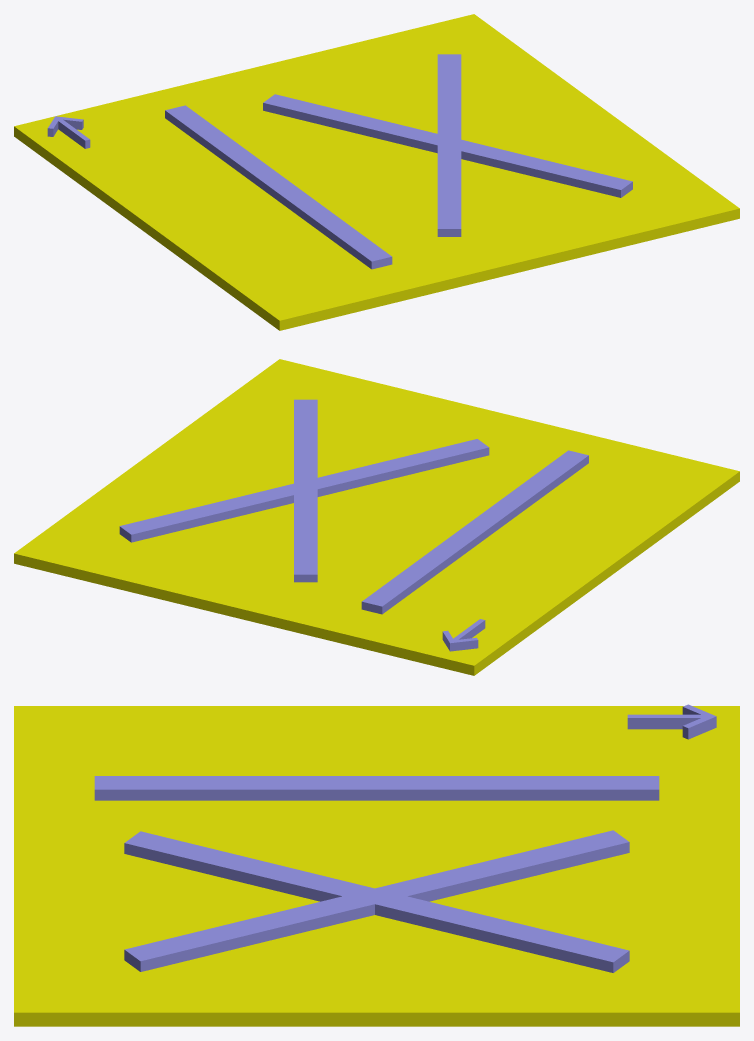
File: mark_9.fbx
3 views of the same model, one above another, from view 1: azimuth 30°, elevation 25°; view 2: azimuth 150°, elevation 25°; view 3: azimuth 270°, elevation 25° (orthographic). The views are drawn at different scales.
Visible parts, largest first — view 1: pCube3, pCube9, pCube11, pCube8; view 2: pCube3, pCube8, pCube11, pCube9; view 3: pCube3, pCube11, pCube8, pCube9, pCube7.
Boxes of the visible parts, x1,y1,x2,y2 form: pCube3: [14, 14, 739, 330]; pCube9: [263, 94, 632, 197]; pCube11: [165, 105, 392, 269]; pCube8: [437, 54, 461, 236]; pCube3: [14, 359, 739, 675]; pCube8: [119, 439, 489, 542]; pCube11: [361, 450, 588, 614]; pCube9: [294, 399, 317, 582]; pCube3: [14, 706, 739, 1026]; pCube11: [94, 776, 659, 800]; pCube8: [124, 831, 629, 972]; pCube9: [124, 830, 629, 971]; pCube7: [627, 714, 704, 729].
Bounding box in the file's own units: 0.9 × 0.0345 × 0.9.
